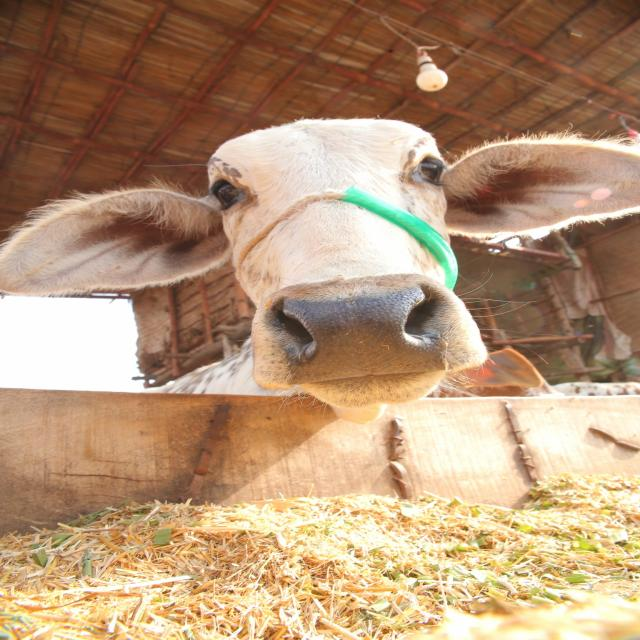muzzles: (256, 284, 450, 389)
